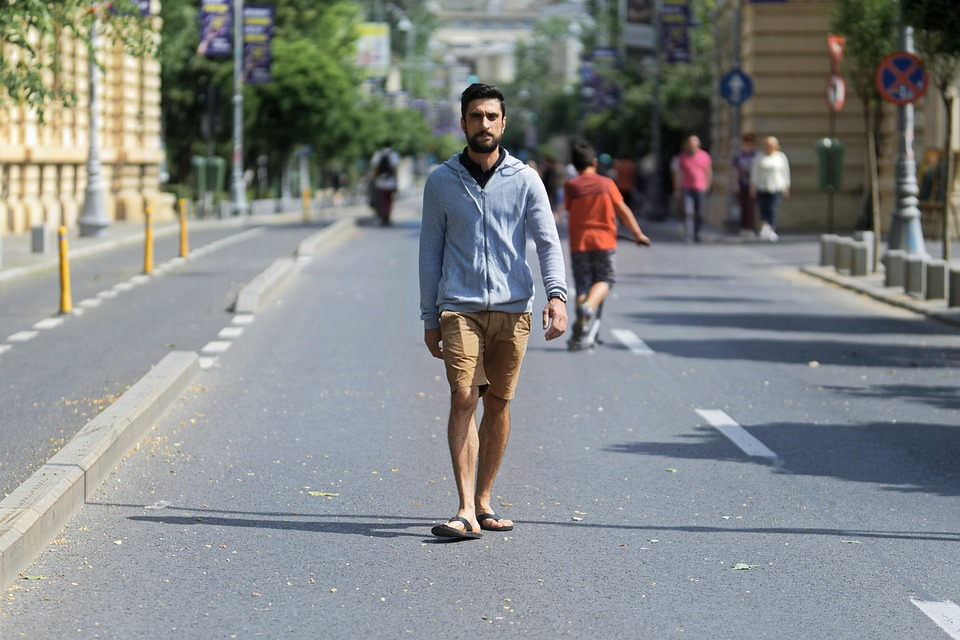Person: (413, 82, 564, 544), (554, 140, 658, 359)
